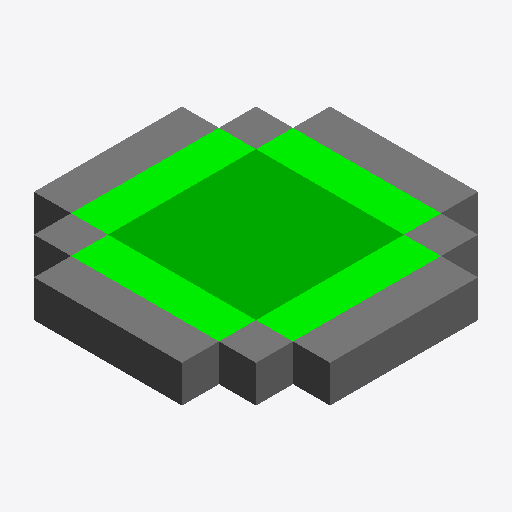
A Minecraft block model of 11 cuboids, rendered isometrically (azimuth 45°, elevation 35.3°) with the resource pack's own textures.
Visible parts, largest first — Gem1, Stone5, Stone7, Stone1, Stone3, Gem2, Gem3, Stone6, Stone4, Stone8, Stone2.
Boxes of the visible parts, <box> form: Gem1: <box>72,128,440,340</box>; Stone5: <box>293,256,477,404</box>; Stone7: <box>34,256,218,404</box>; Stone1: <box>34,107,217,233</box>; Stone3: <box>294,107,477,233</box>; Gem2: <box>71,128,254,233</box>; Gem3: <box>257,235,439,340</box>; Stone6: <box>219,320,292,404</box>; Stone4: <box>404,214,477,276</box>; Stone8: <box>34,214,107,276</box>; Stone2: <box>220,107,291,148</box>.
Size of the model in its own units: 8 by 1 by 8.